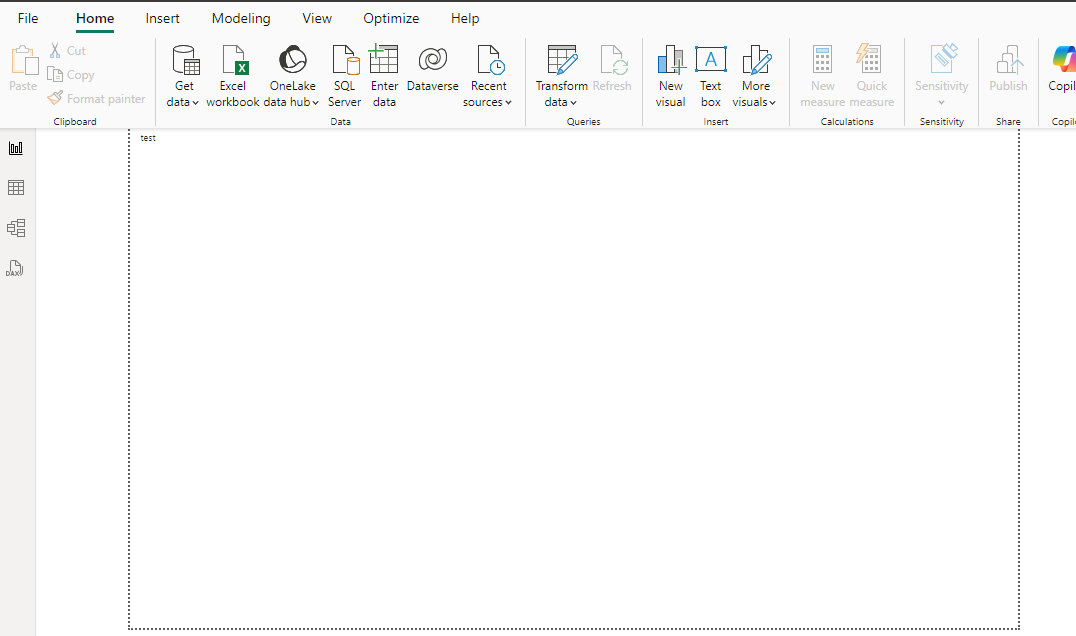

The dashboard page shown, as its layout file describes it:
{"tool":"powerbi","page":{"name":"Page 1","canvas":[1280,720],"ordinal":0},"visuals":[{"type":"textbox","box":[10,0,280,280],"z":0}]}

Visuals, with their boxes on the page's 1280x720 design canvas (x1, y1, x2, y2). These are canvas units, not pixel positions in the 1076x636 screenshot, which may show the page scaled, cropped or inside an application window:
textbox: <bbox>10, 0, 290, 280</bbox>
